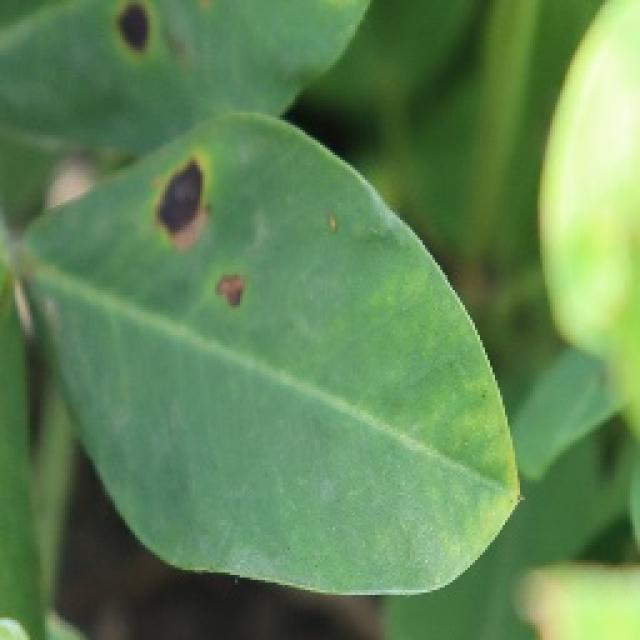Yellowish: (130, 156, 270, 337), (91, 0, 212, 75), (302, 199, 358, 276)
